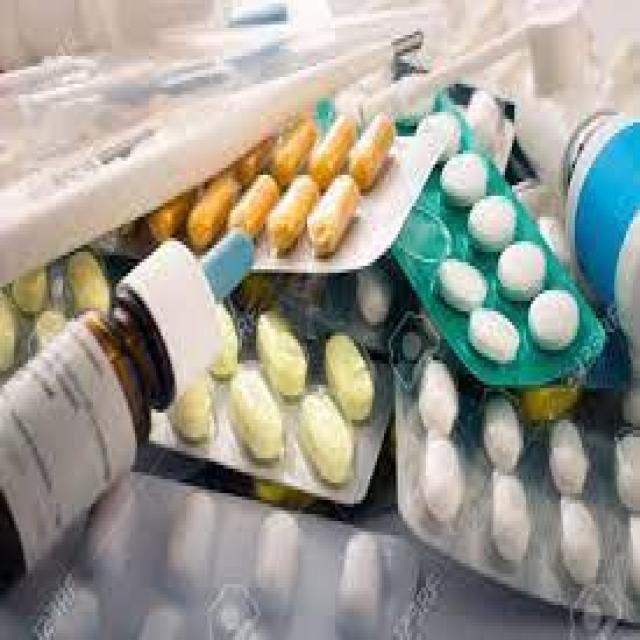B3: (2, 224, 272, 608), (363, 94, 603, 396), (144, 297, 405, 518), (111, 112, 452, 276), (388, 363, 640, 573)
